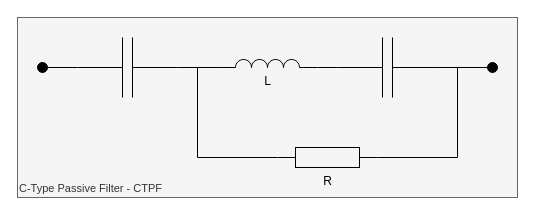
Image size: 535x215. Some labels were removed from this diagram. The centre of each missing label's shape, as x and y in pixels:
"C1" belongs at point (127, 67).
"C2" belongs at point (387, 67).
